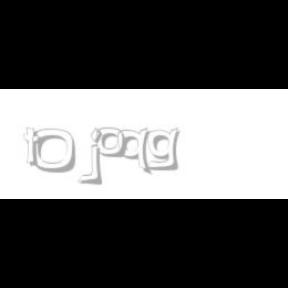O: (32, 128, 76, 174)
g: (146, 128, 183, 171)
j: (88, 128, 116, 186)
o: (97, 128, 126, 158)
q: (117, 128, 153, 176)
t: (23, 128, 45, 168)
